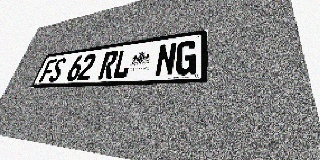2: (77, 53, 97, 81)
6: (65, 55, 86, 81)
F: (39, 59, 58, 83)
G: (174, 39, 197, 76)
L: (112, 48, 134, 79)
N: (154, 42, 177, 77)
R: (98, 50, 119, 80)
S: (48, 57, 67, 82)
